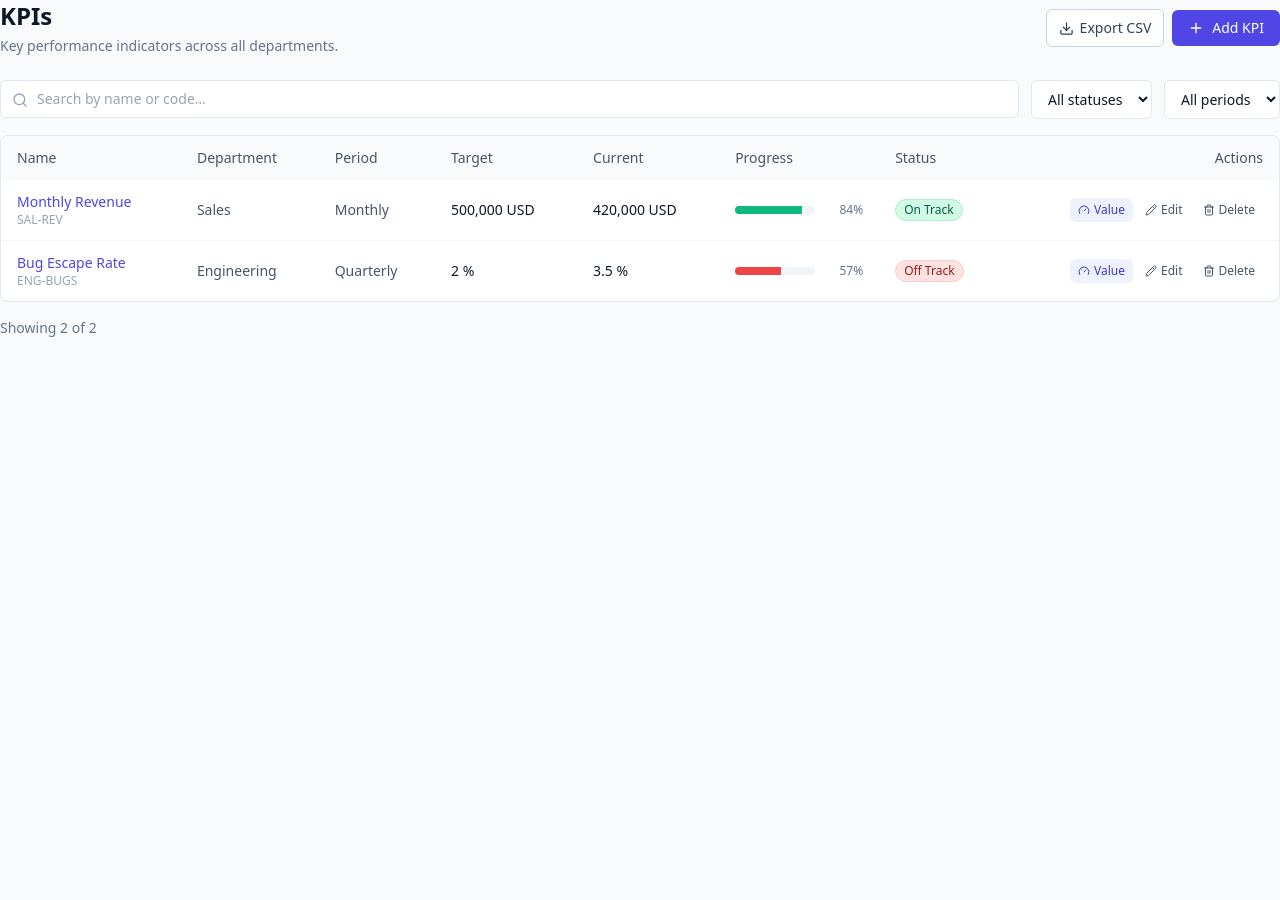
KpisPage Integration & Workflow Tests › Delete Workflow › cancels deletion when Cancel button is clicked in ConfirmDialog
The image size is (1280, 900).
Check: the link "Monthly Revenue" is shown, box [17, 192, 132, 211]
Click the button "Delete" in the row of "Monthly Revenue": point(1229, 210) [1194, 198, 1263, 222]
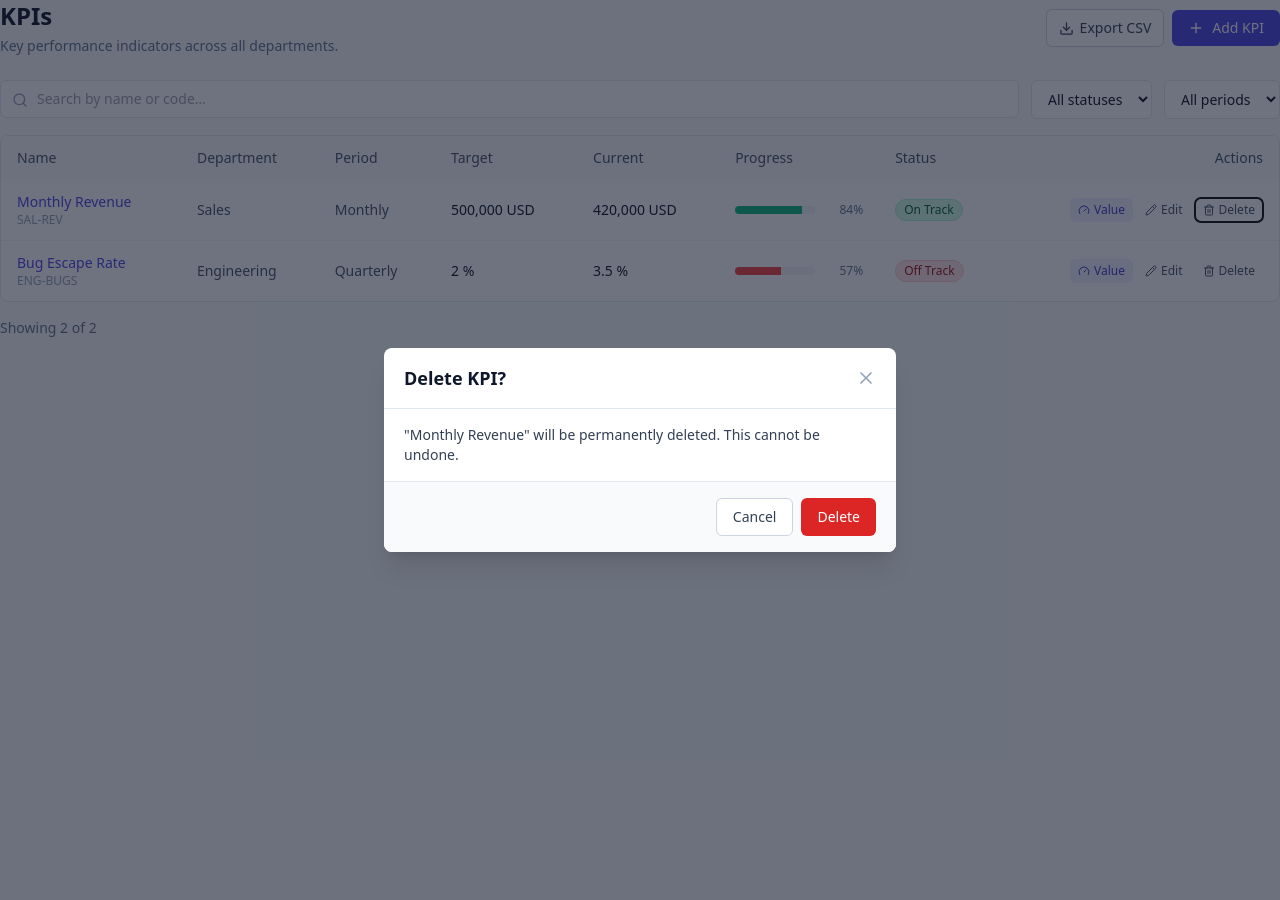
Check: the heading "Delete KPI?" is shown, box [404, 364, 506, 392]
Click the button "Cancel": point(755, 517) [716, 498, 793, 536]
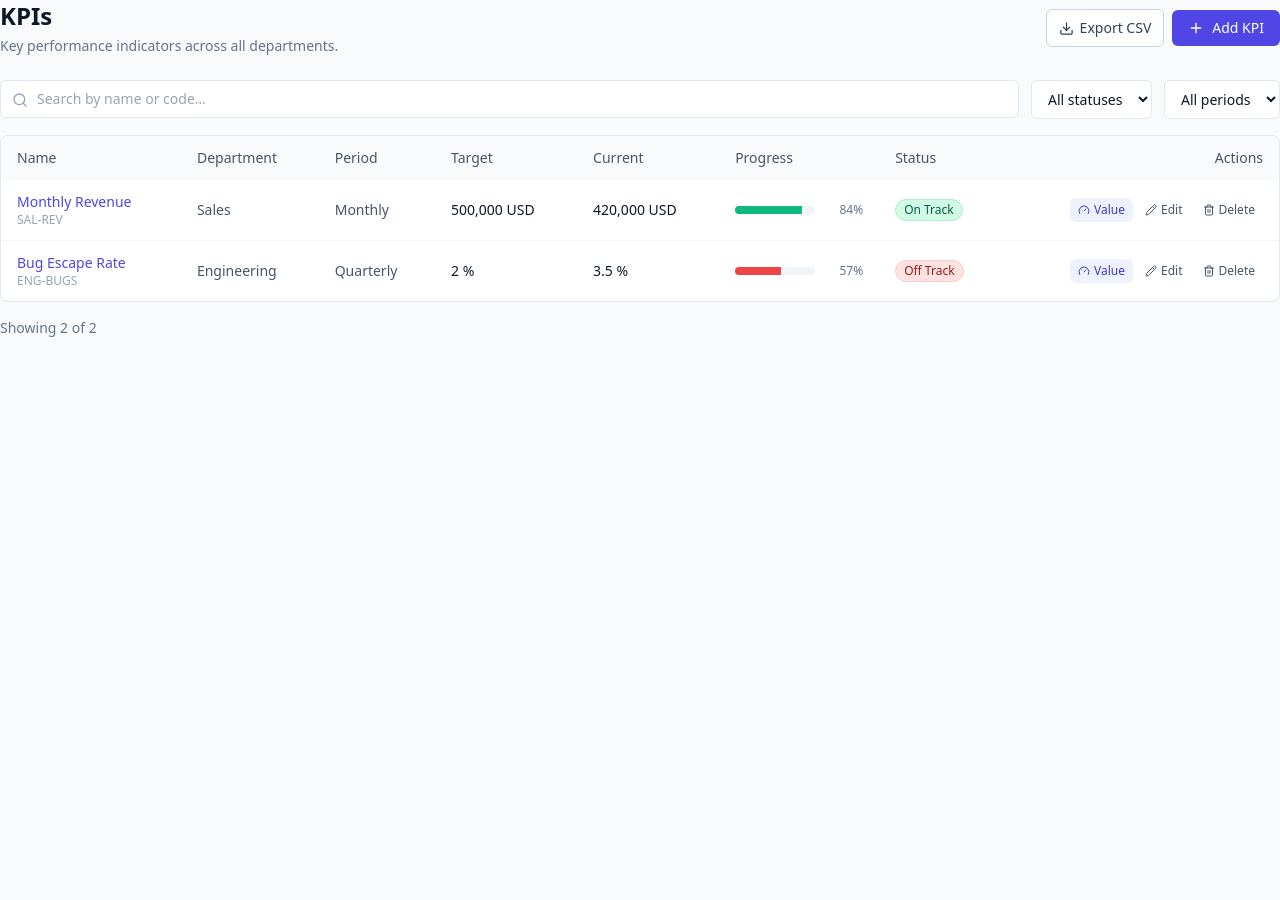
Check: the dialog is gone
